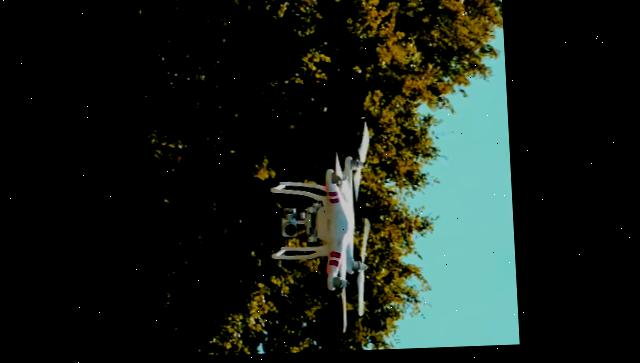drone: (262, 122, 380, 337)
